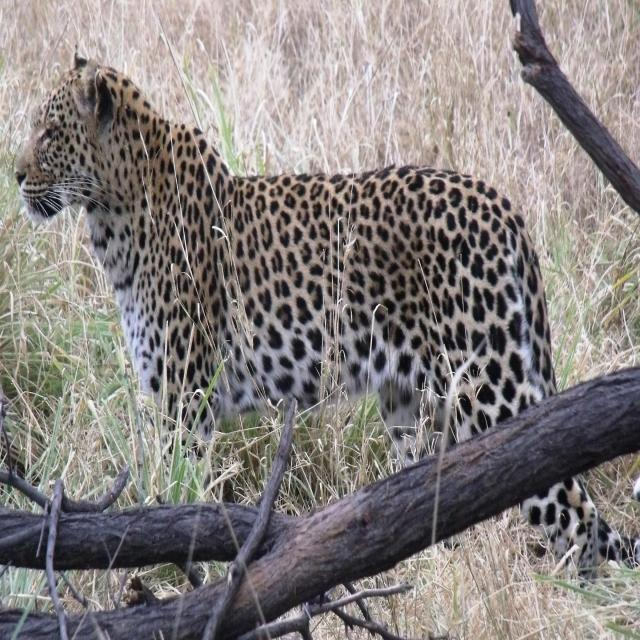Leopard: (14, 20, 640, 608)
